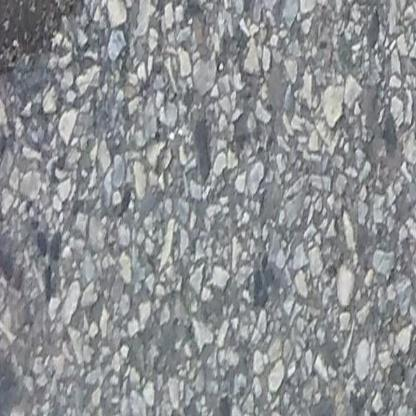Cracks: (0, 0, 89, 93)
